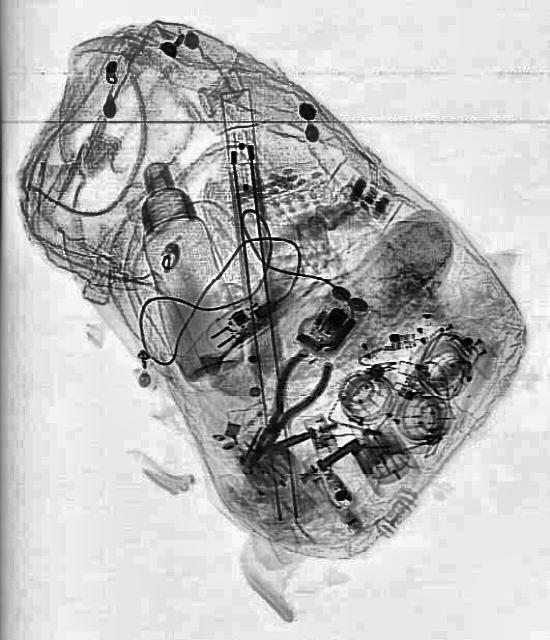Pliers: (232, 342, 338, 478)
